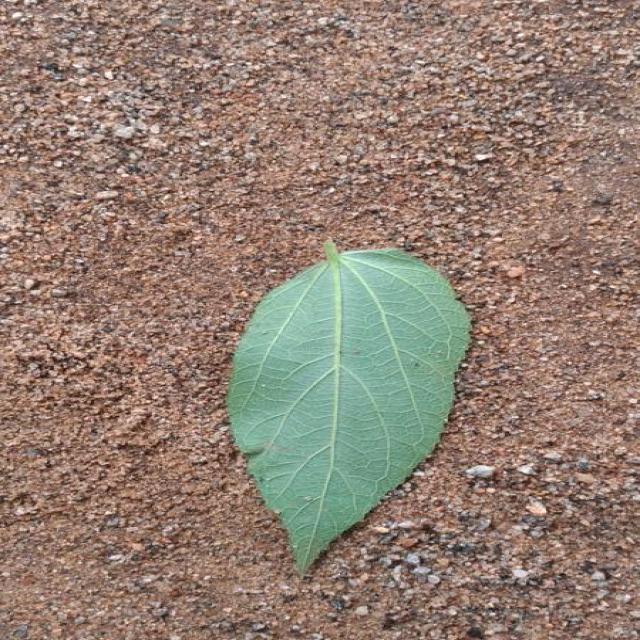gasagase: (227, 242, 470, 574)
